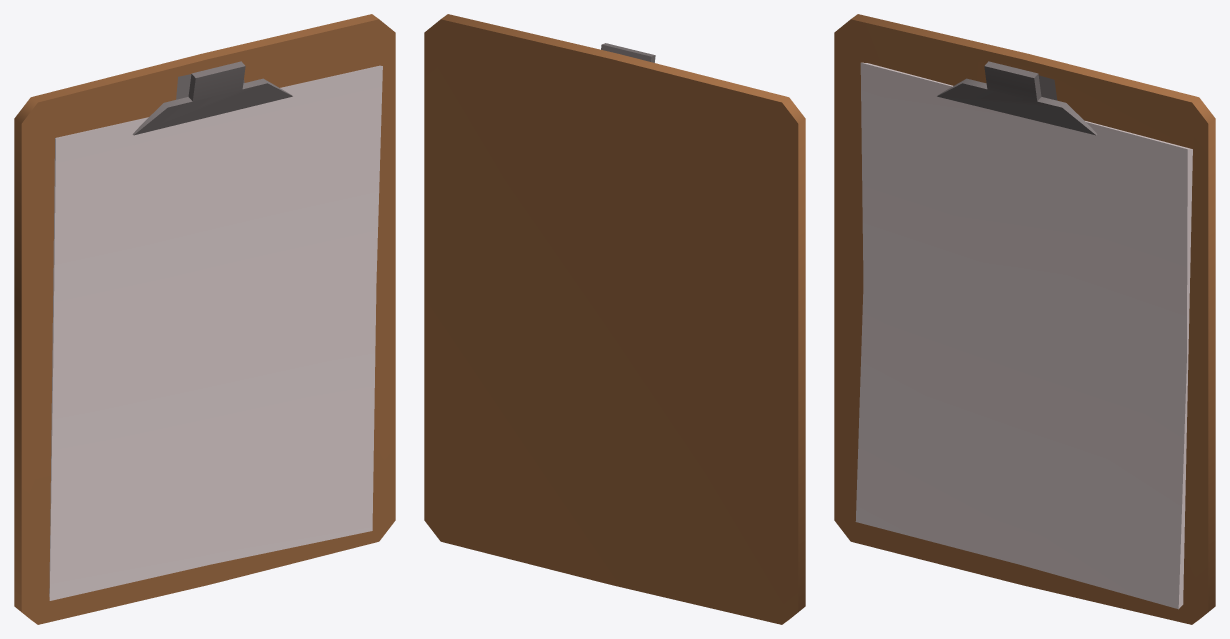
The model's file is Clipboard.glb.
The picture shows the model from 3 angles, left to right: view 1: azimuth 30°, elevation 25°; view 2: azimuth 150°, elevation 25°; view 3: azimuth 330°, elevation 25°; orthographic projection.
Visible parts, largest first — view 1: Cube; view 2: Cube; view 3: Cube.
Part boxes in pixels (x1=…): Cube: x1=14, y1=14, x2=395, y2=624; Cube: x1=424, y1=14, x2=805, y2=624; Cube: x1=834, y1=14, x2=1215, y2=624.
Size of the model in its own units: 0.3 by 0.4029 by 0.0268.
Materials: 1 (1 with a texture image).
